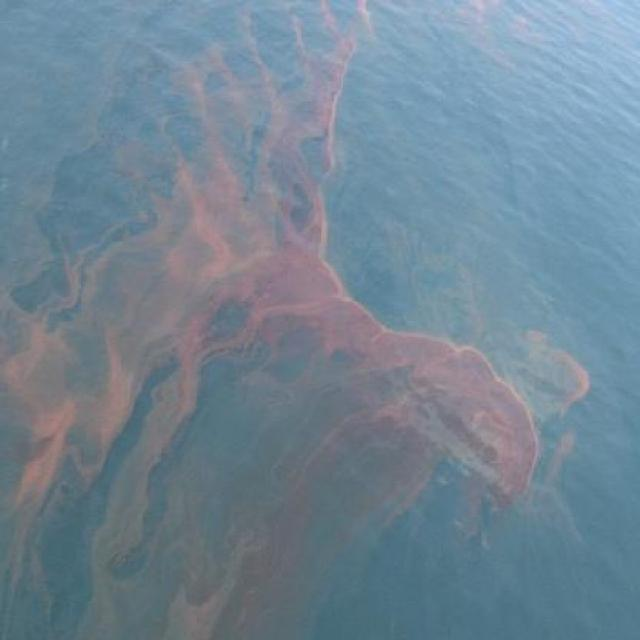truecolor: (0, 0, 538, 639)
